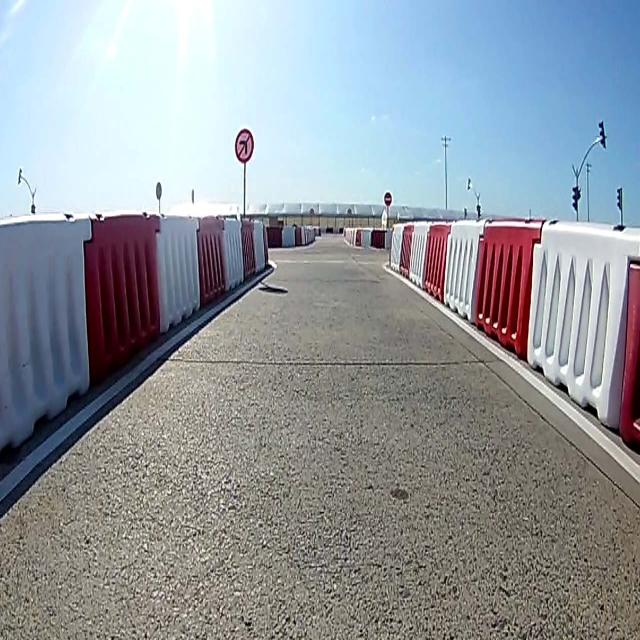girisyok: (384, 190, 393, 206)
soladonulmez: (236, 129, 253, 163)
